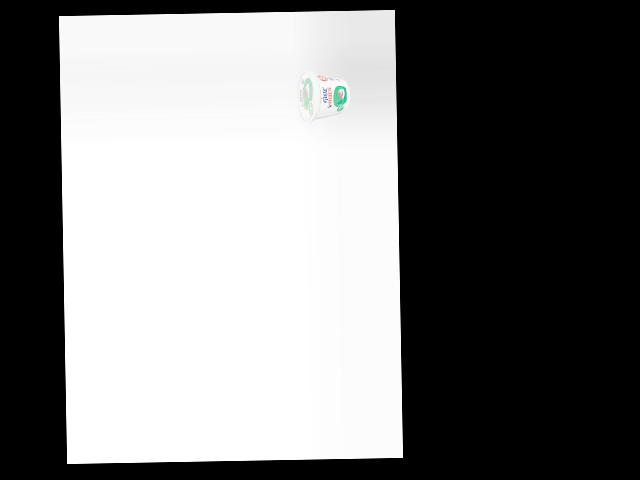cotage: (296, 68, 350, 123)
